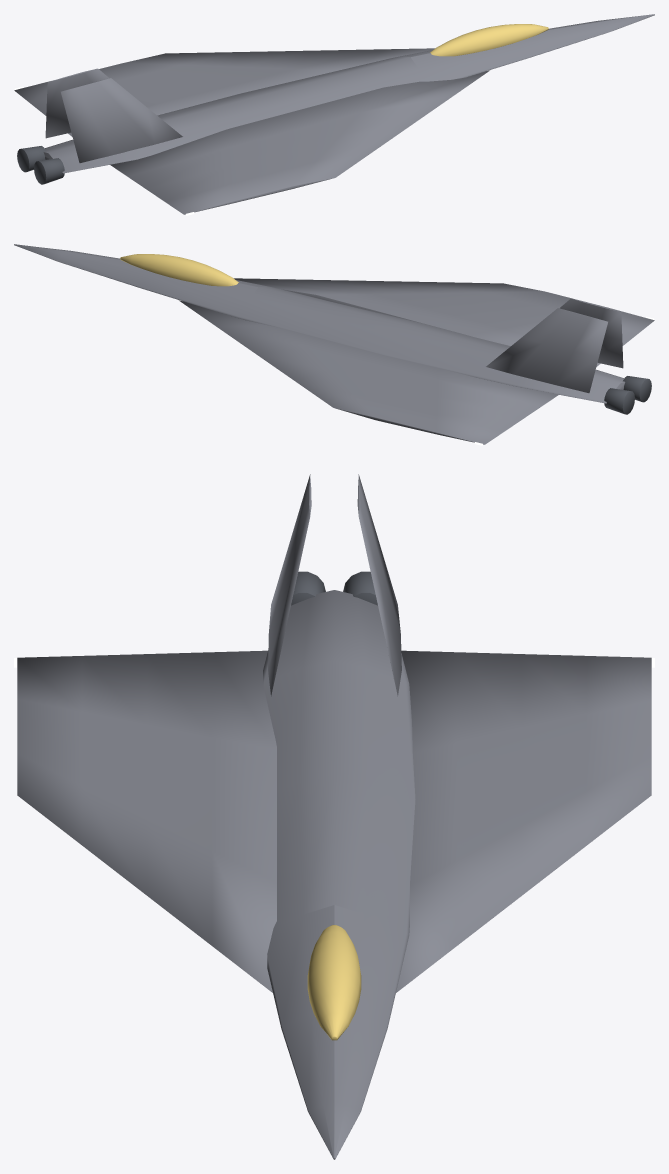
The model's file is SM_Rapier_Interceptor.fbx.
The picture shows the model from 3 angles, top to bottom: view 1: azimuth 30°, elevation 25°; view 2: azimuth 150°, elevation 25°; view 3: azimuth 270°, elevation 25°; orthographic projection. The views are drawn at different scales.
Parts seen in each view (by area): view 1: SM_Rapier_Interceptor; view 2: SM_Rapier_Interceptor; view 3: SM_Rapier_Interceptor.
Part boxes in pixels (x1,y1,x2,y2): SM_Rapier_Interceptor: [14, 14, 654, 215]; SM_Rapier_Interceptor: [14, 244, 654, 445]; SM_Rapier_Interceptor: [14, 474, 654, 1159].
Size of the model in its own units: 22.2 by 10.61 by 2.95.
